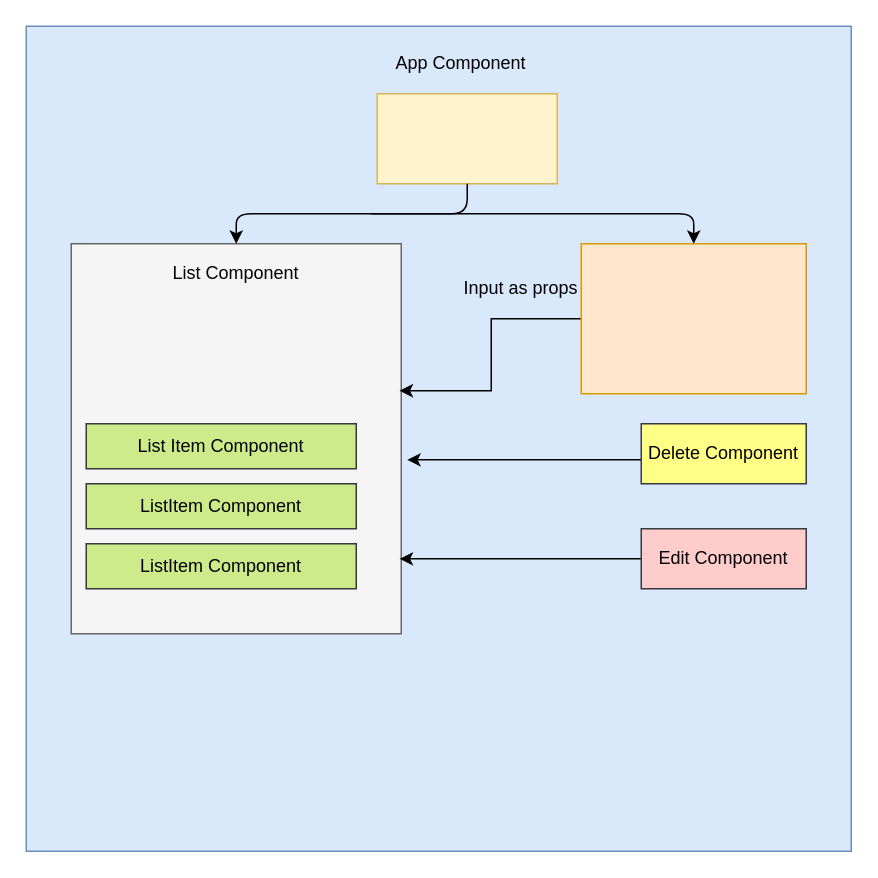
Image size: 878x878. Some labels were removed from this diagram. Each missing label, with the centre of its shape:
"Application Header Component" belongs at (466,138).
"TextInput Component" belongs at (693,318).
